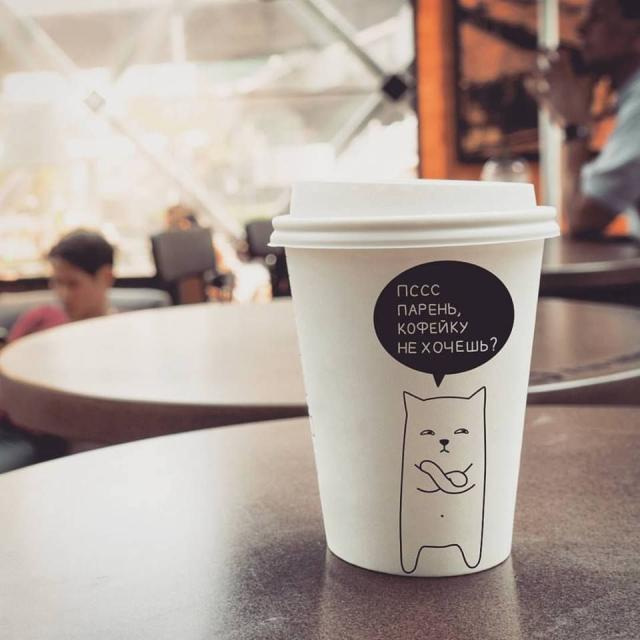paper cup: (269, 176, 561, 578)
